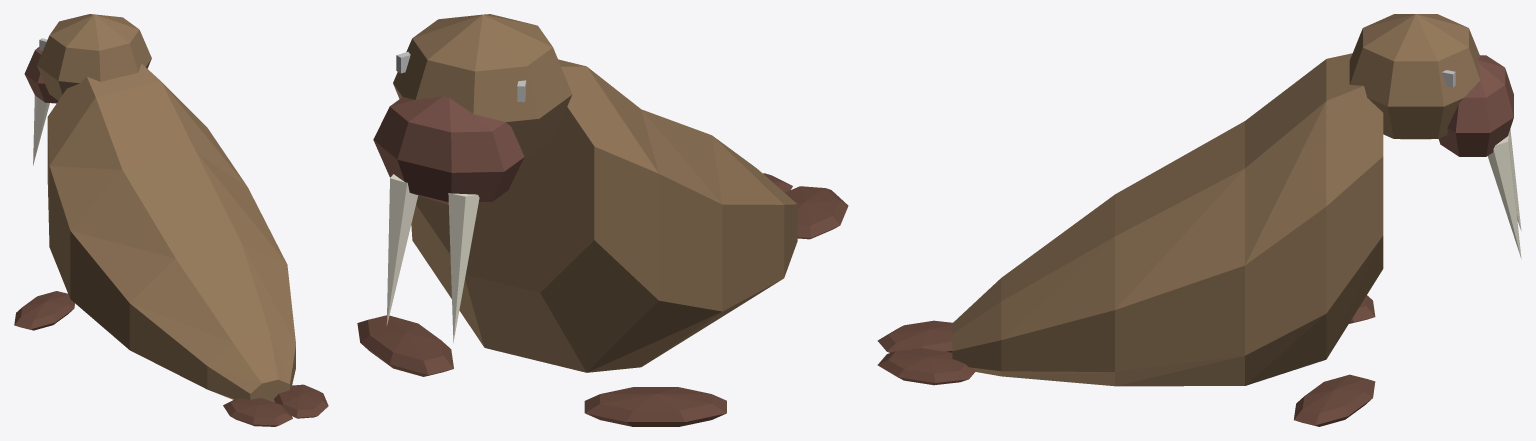
The model's file is animal_walrus.obj.
3 views of the same model, side by side, from view 1: azimuth 30°, elevation 25°; view 2: azimuth 150°, elevation 25°; view 3: azimuth 270°, elevation 25° (orthographic). The views are drawn at different scales.
Parts seen in each view (by area): view 1: animal_walrus; view 2: animal_walrus; view 3: animal_walrus.
Boxes of the visible parts, x1,y1,x2,y2 form: animal_walrus: [14, 14, 328, 426]; animal_walrus: [357, 14, 848, 426]; animal_walrus: [877, 14, 1521, 426].
Bounding box in the file's own units: 0.8866 × 0.9533 × 1.58.
